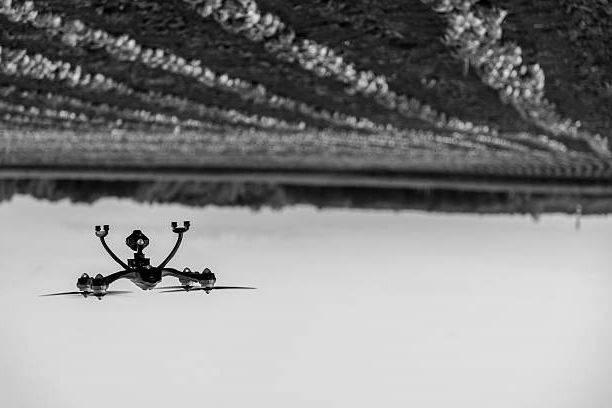Drone: (35, 218, 260, 303)
